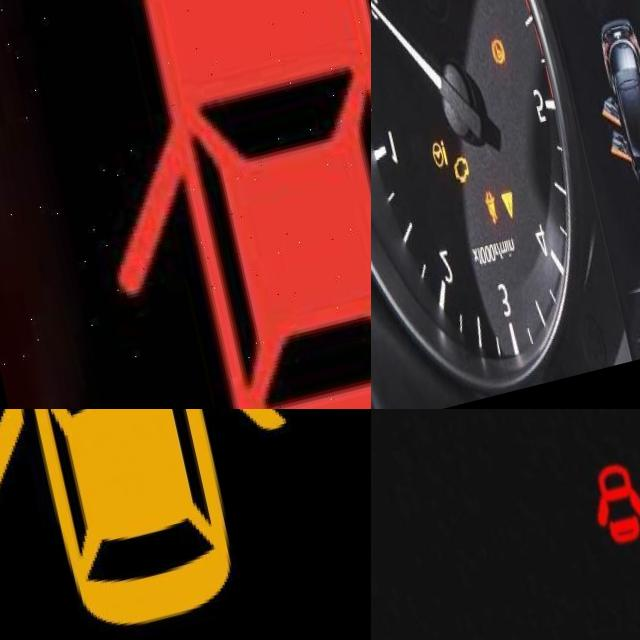Electronic Power Steering: (409, 145, 433, 176)
Seat Belt: (457, 195, 484, 237)
